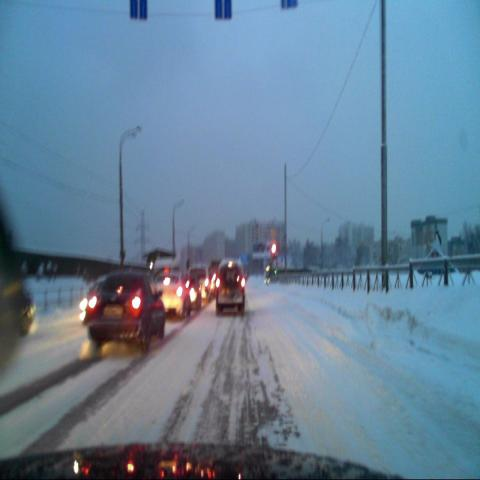5_15_2: (130, 0, 146, 20)
